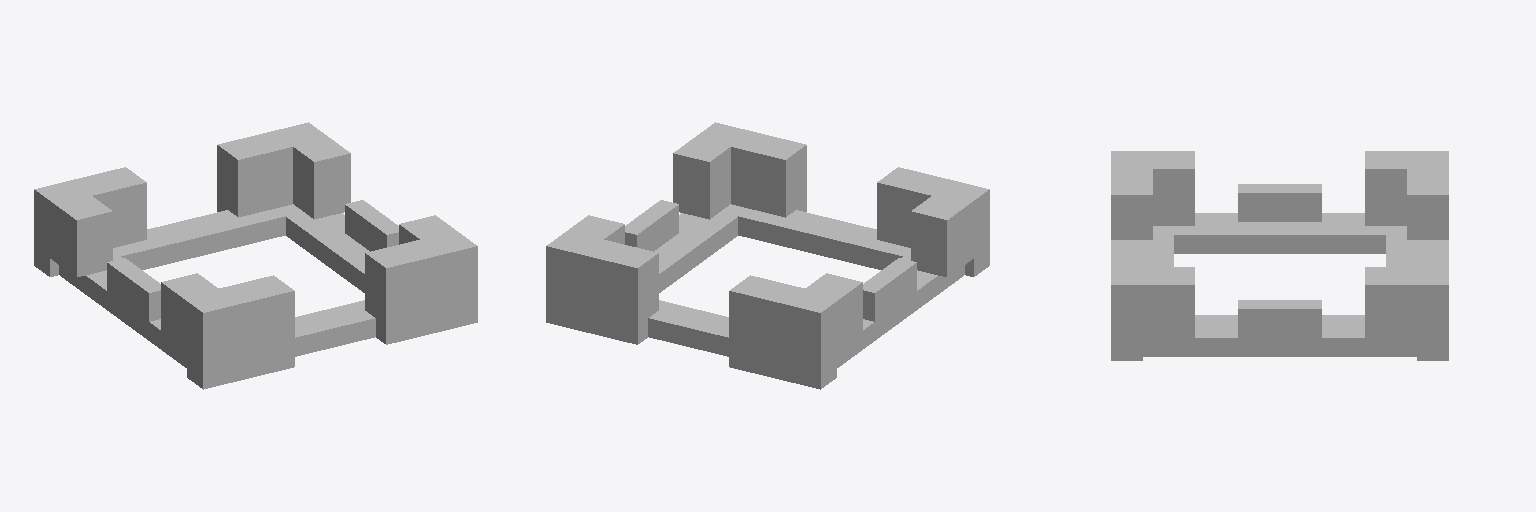
The model's file is Crown.obj.
3 renders of one model, left to right at view 1: azimuth 30°, elevation 25°; view 2: azimuth 150°, elevation 25°; view 3: azimuth 270°, elevation 25°, orthographic.
Parts seen in each view (by area): view 1: object 1; view 2: object 1; view 3: object 1.
Boxes of the visible parts, box(x1,y1,x2,y2) form: object 1: box(34, 122, 477, 389); object 1: box(546, 122, 989, 389); object 1: box(1111, 151, 1448, 360).
Size of the model in its own units: 3 by 0.8 by 3.2.